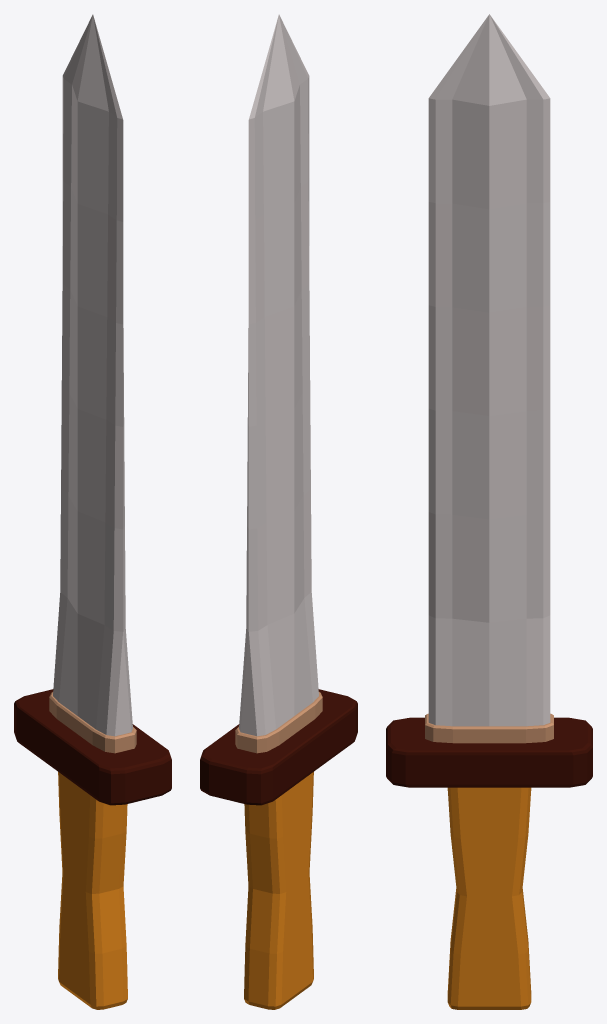
File: SimpleSword.fbx
The picture shows the model from 3 angles, left to right: view 1: azimuth 30°, elevation 25°; view 2: azimuth 150°, elevation 25°; view 3: azimuth 270°, elevation 25°; orthographic projection.
Parts seen in each view (by area): view 1: Cube; view 2: Cube; view 3: Cube.
Part boxes in pixels (<box>): Cube: <box>14,14,171,1009</box>; Cube: <box>200,14,357,1009</box>; Cube: <box>386,14,592,1009</box>.
Bounding box in the file's own units: 6.48 × 86.11 × 16.31.
